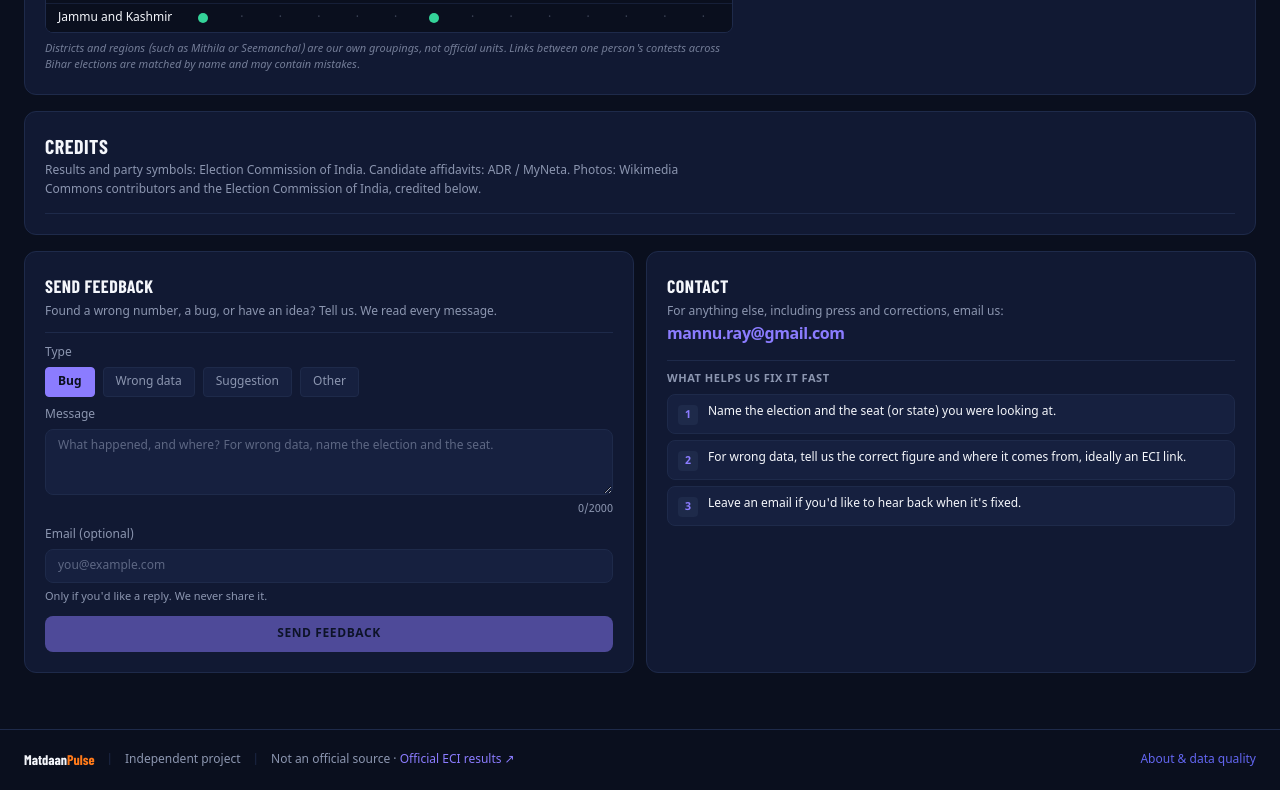
About page › keeps Send disabled until the message is long enough
The width and height of the screenshot is (1280, 790).
(page scrolled)
Expected: the button "Send feedback" is disabled, [45, 616, 613, 652]
Replace the text in the text box labelled "Message 0/2000" with "abcd" at (329, 462), box [45, 428, 613, 494]
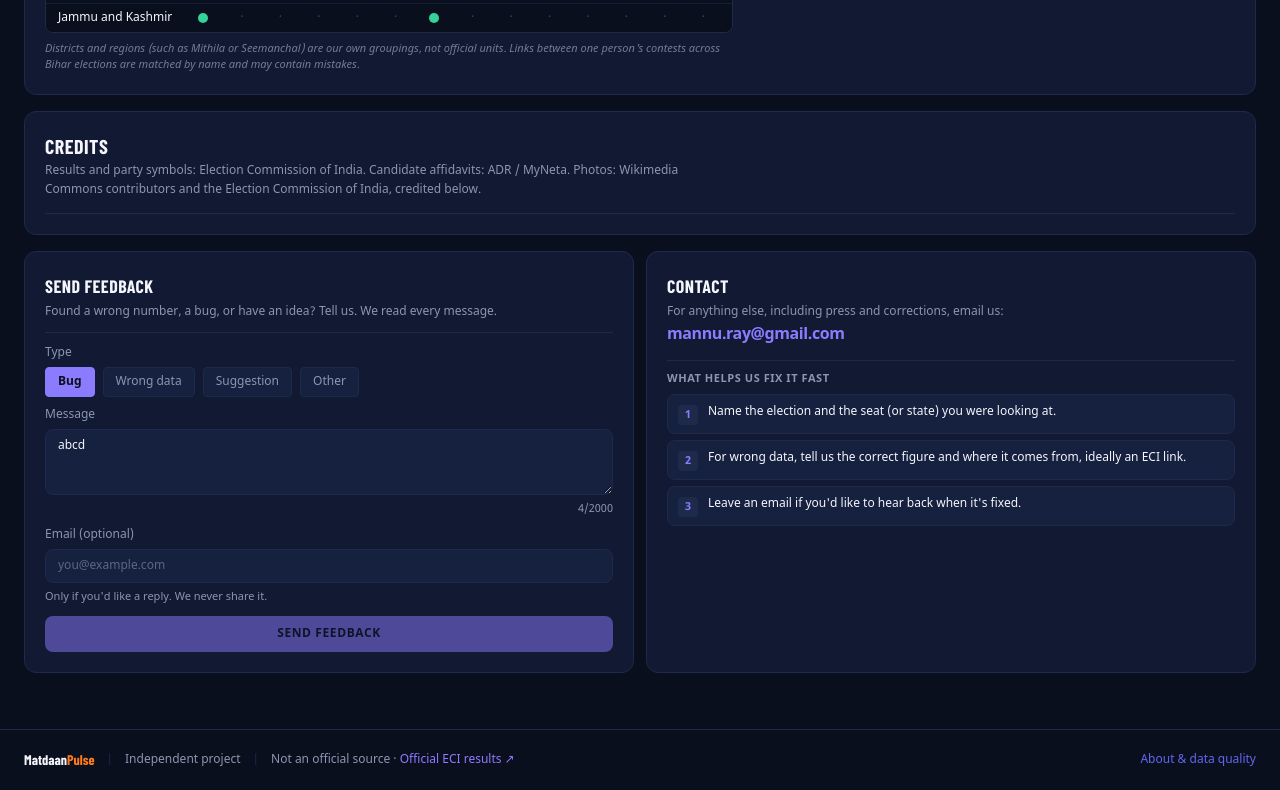
Expected: the button "Send feedback" is disabled, [45, 616, 613, 652]
Replace the text in the text box labelled "Message 4/2000" with "Seat 12 shows the wrong winner" at (329, 462), box [45, 428, 613, 494]
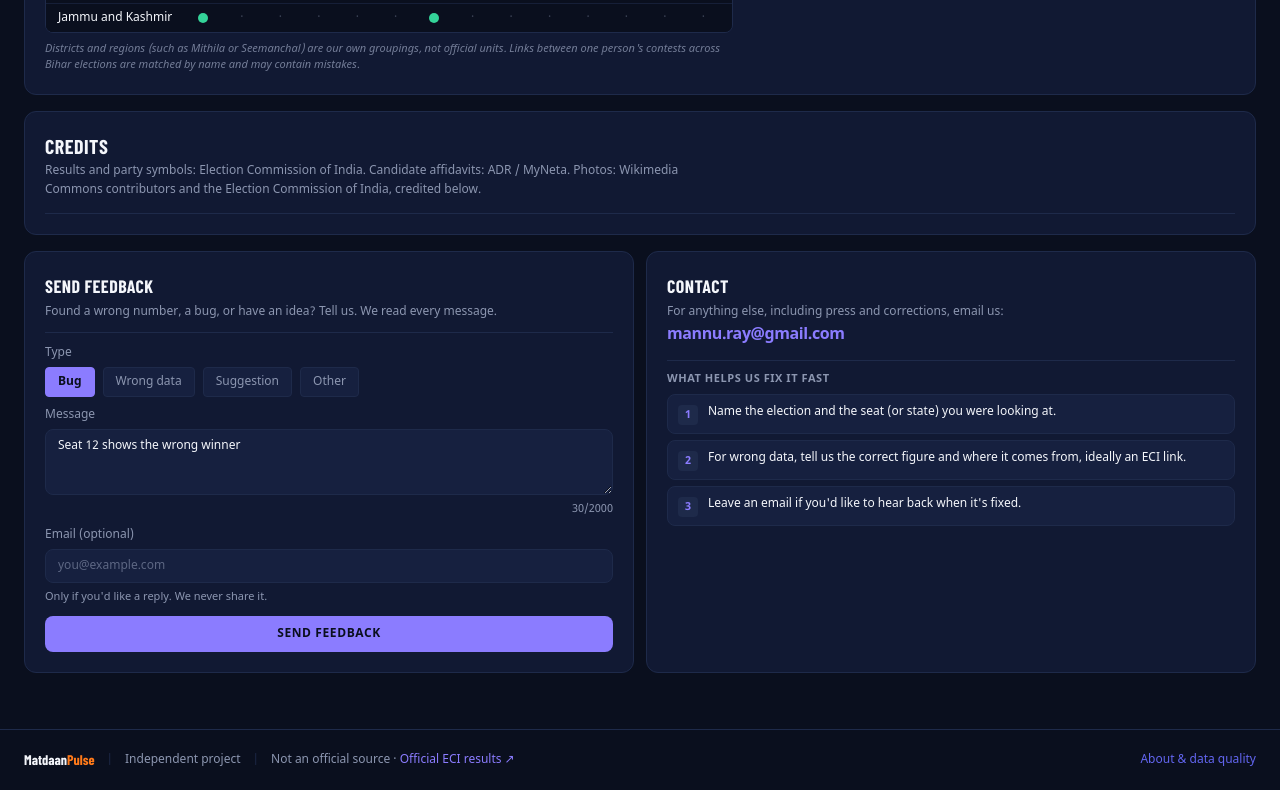
Expected: the button "Send feedback" is enabled, [45, 616, 613, 652]
